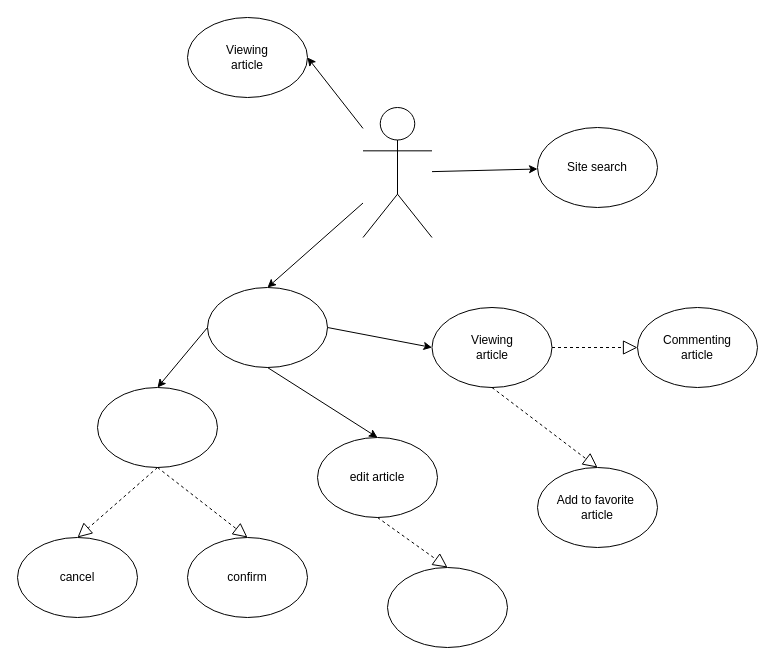
Image size: 775x665. Some labels were removed from this diagram. The centre of each missing label's shape, as x and y in pixels:
delete/ edit/ create article: pixel 447 607
logout: pixel 157 427
Registration/ authorization: pixel 267 327
User: pixel 397 172
